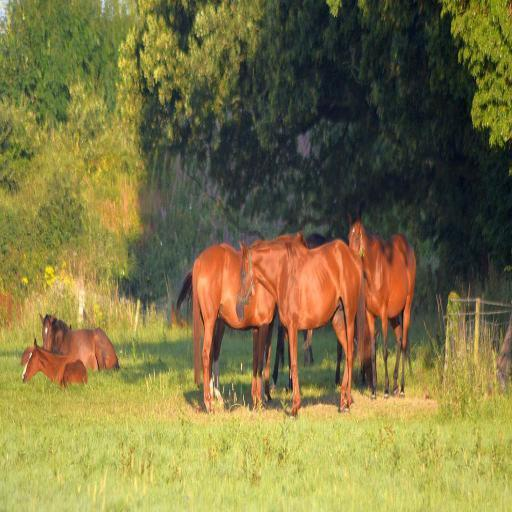horse: (173, 228, 418, 418), (36, 312, 120, 370), (20, 334, 89, 392)
